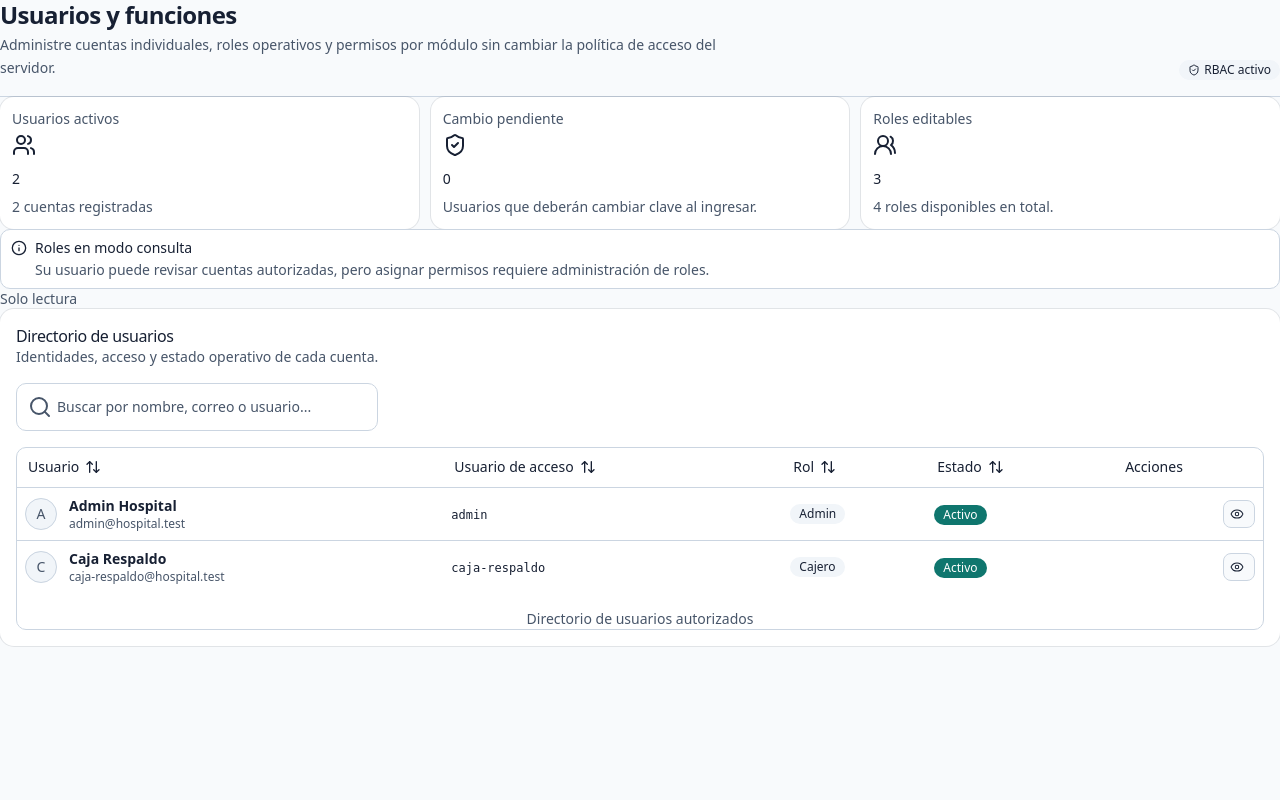
it: UsersView › preserves search context after reviewing and closing a user detail
The image size is (1280, 800).
Type "respaldo" into the field named "buscar usuarios".
click(197, 406); type("respaldo")  # box [16,382,378,430]
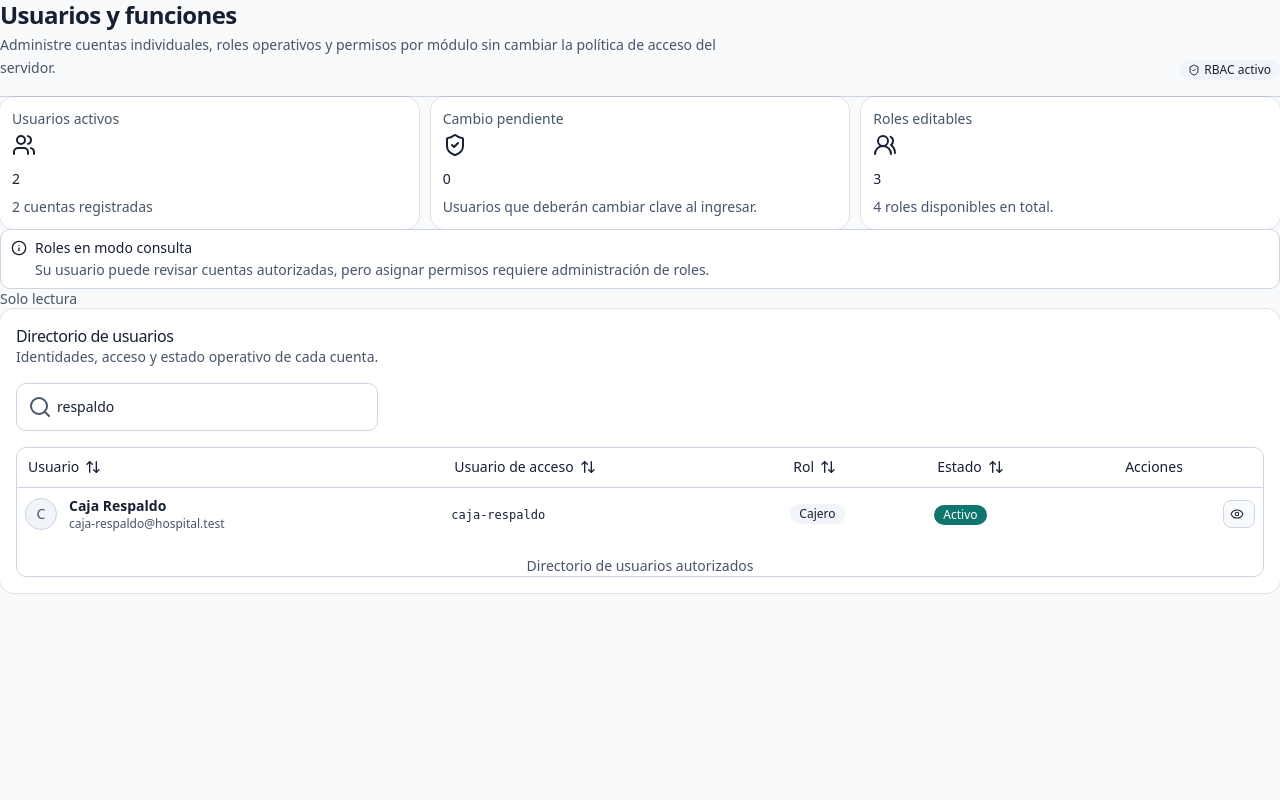
Click the button named "ver detalle de caja respaldo".
click(1239, 514)  # box [1223,500,1255,528]
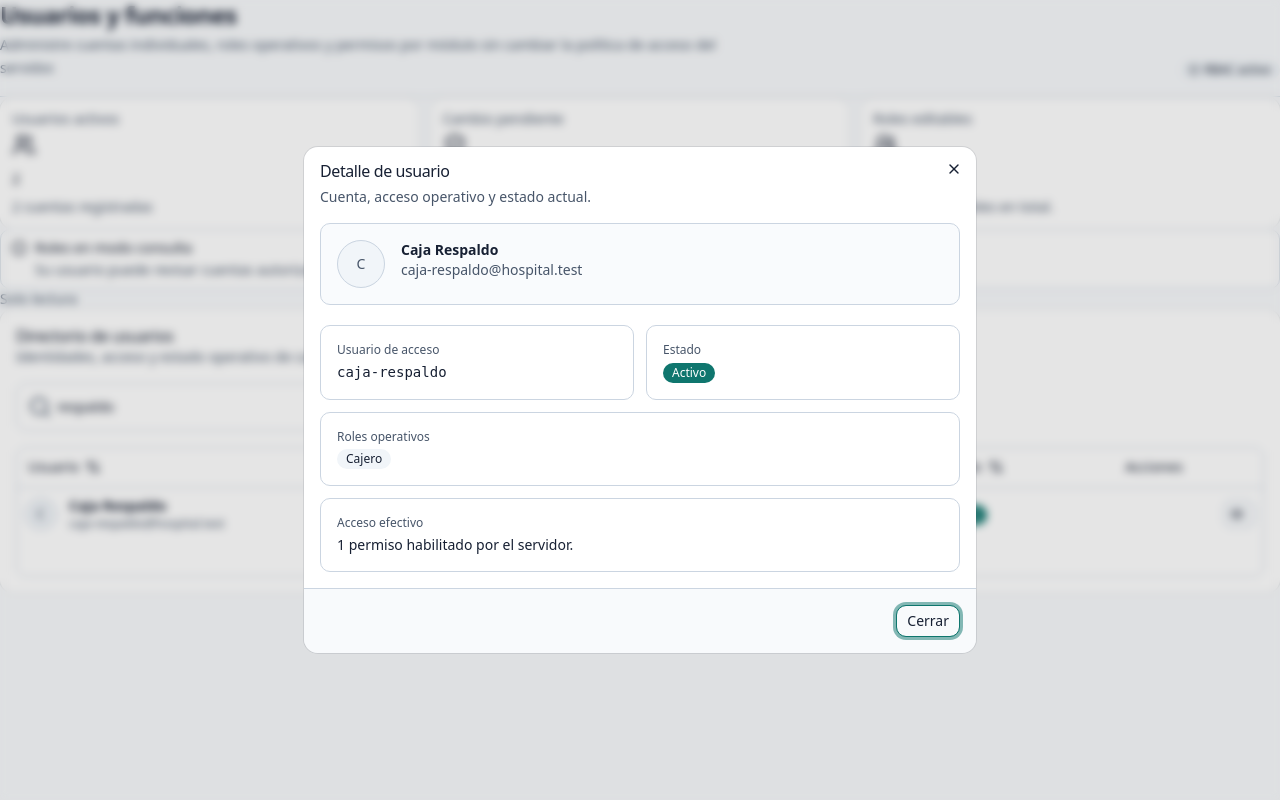
Expected: the dialog "Detalle de usuario" shows "Caja Respaldo", [401,240,498,259]
Expected: the dialog "Detalle de usuario" shows "cajero", [346,450,382,467]
Click the button "Cerrar".
click(928, 621)  # box [896,605,960,637]
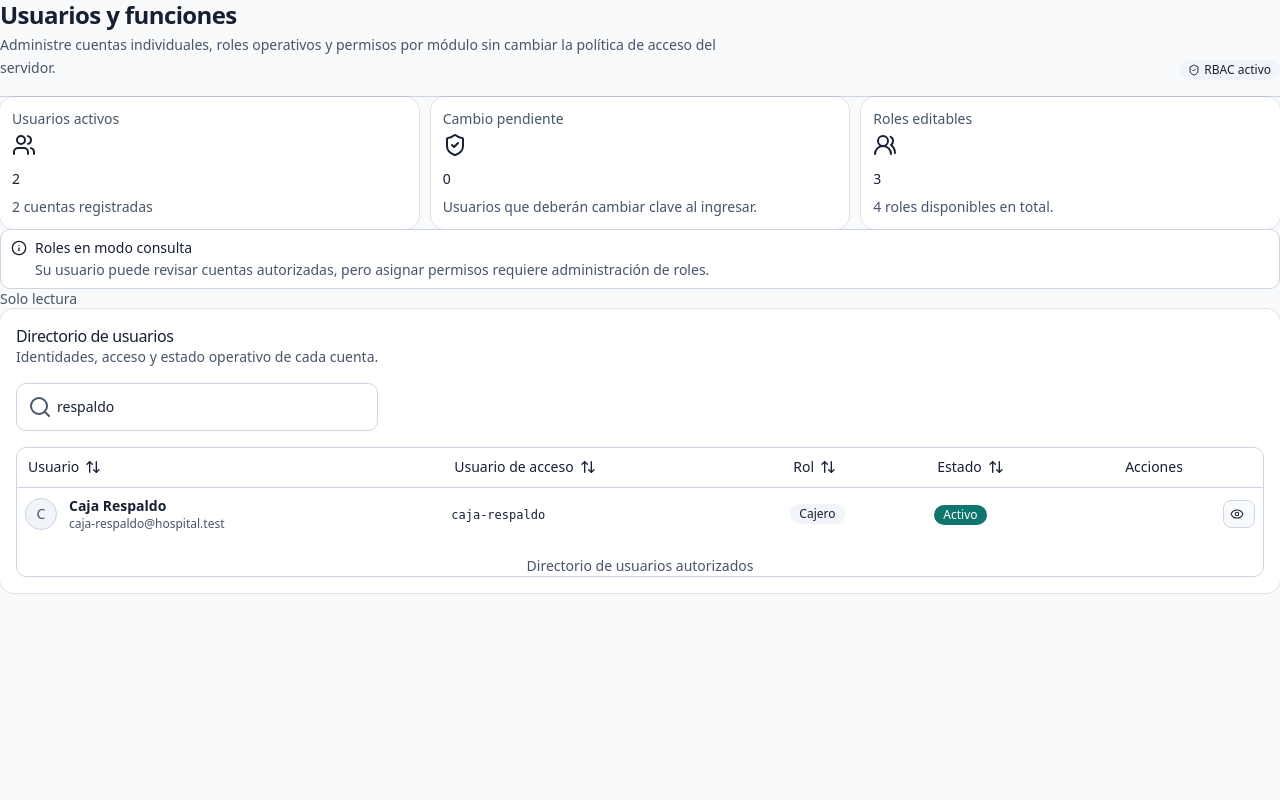
Expected: the text "Caja Respaldo" is shown, [69,496,166,515]
Expected: the heading "Detalle de usuario" is gone
